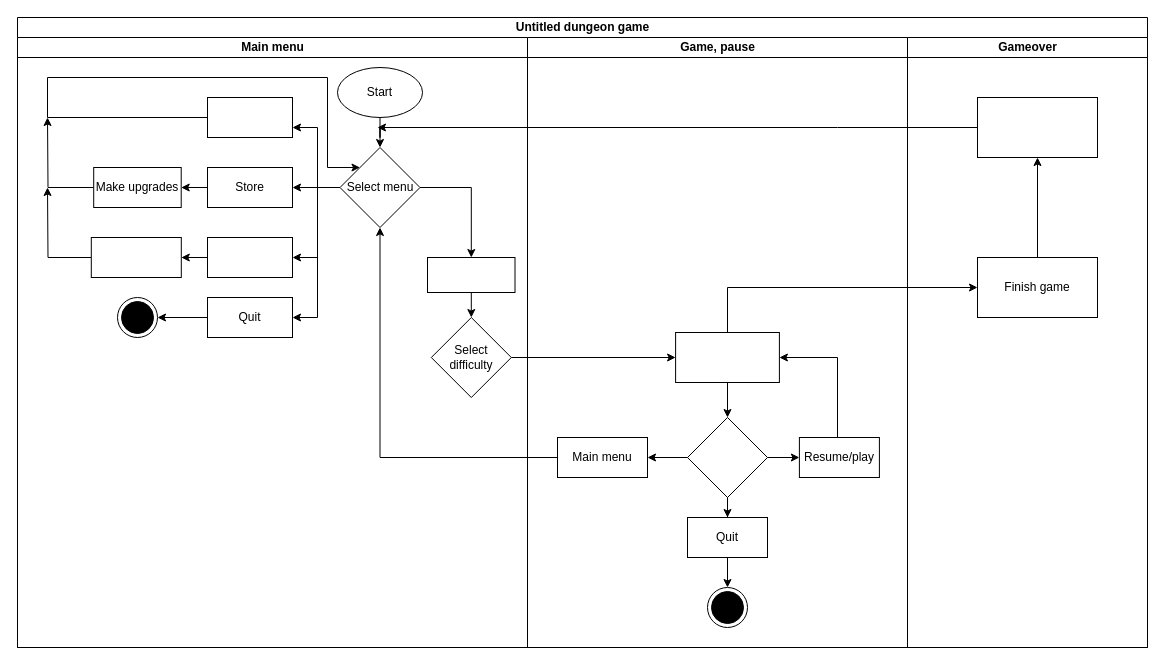
This 1165x665 diagram has some shape labels left out. The box of each missing label's shape, as (x1, y1, x2, y2) in pixels:
Class: (206, 236, 292, 278)
Input name and save score: (976, 96, 1098, 158)
Leaderboard: (206, 96, 292, 138)
Pause: (686, 416, 768, 498)
Play: (426, 256, 515, 292)
Play using values of the selected difficulty: (675, 332, 779, 382)
Select class: (90, 236, 181, 278)
